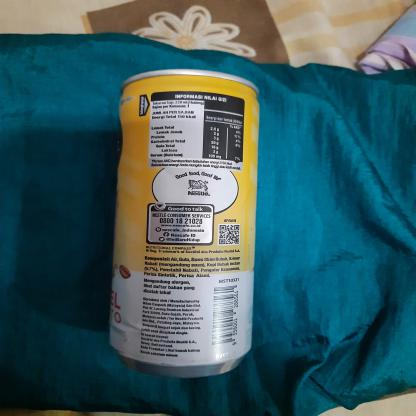mouse: (101, 64, 266, 380)
